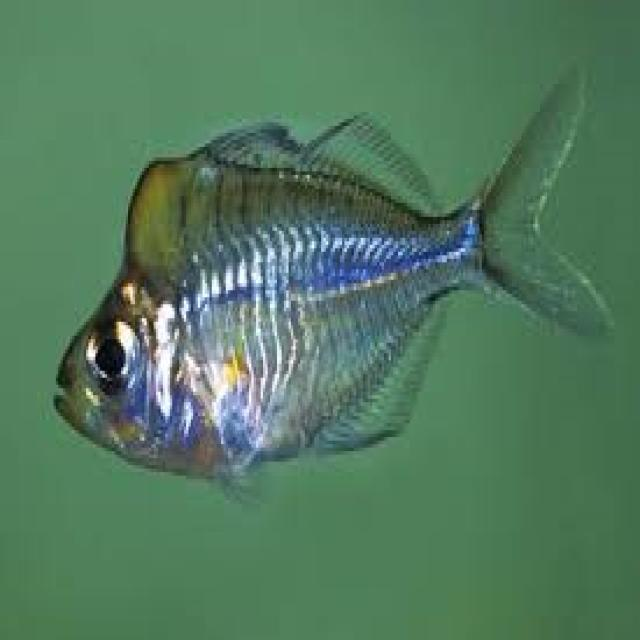Glass-Perchlet: (18, 38, 626, 533)
